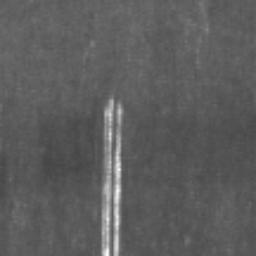Bright scratch: (101, 99, 122, 256)
